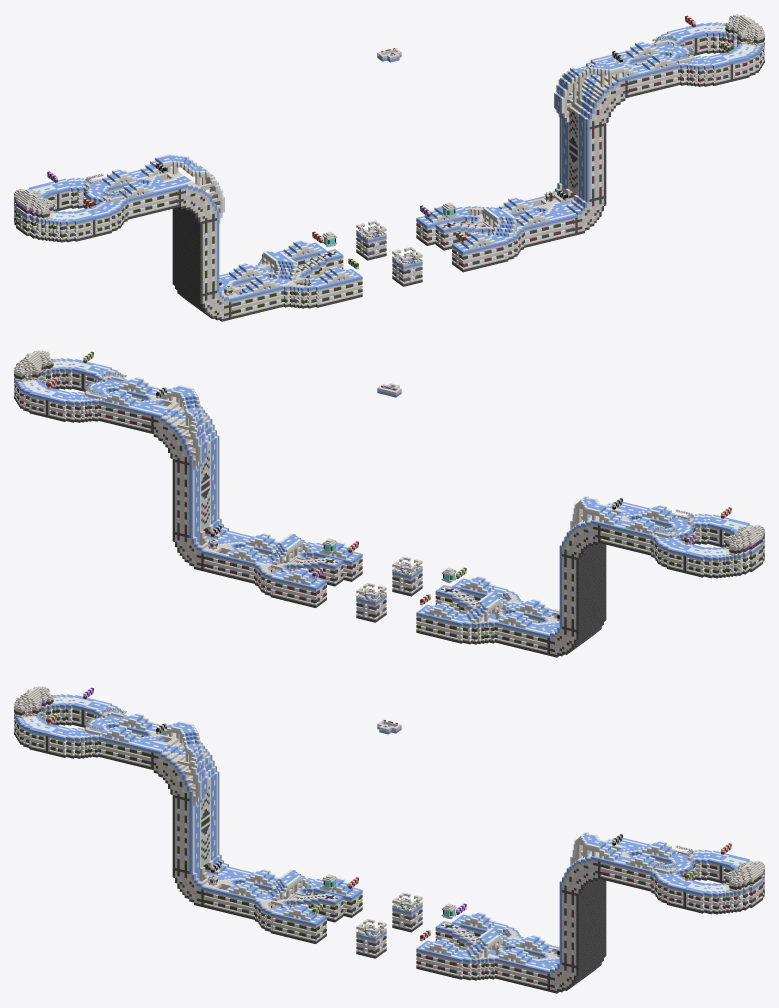
Rendered from minecraft.obj.
3 renders of one model, top to bottom at view 1: azimuth 30°, elevation 25°; view 2: azimuth 150°, elevation 25°; view 3: azimuth 330°, elevation 25°, orthographic.
Bounding box in the file's own units: 308 × 87 × 34.
